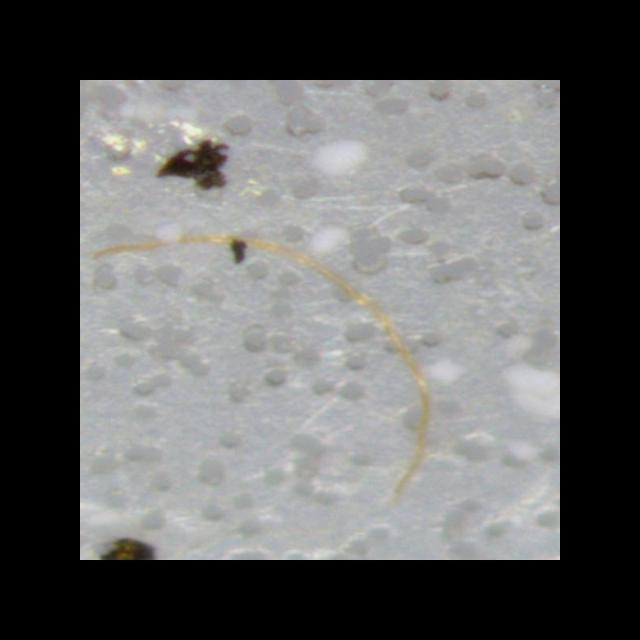Fibre: (89, 233, 431, 507), (153, 138, 229, 192)
